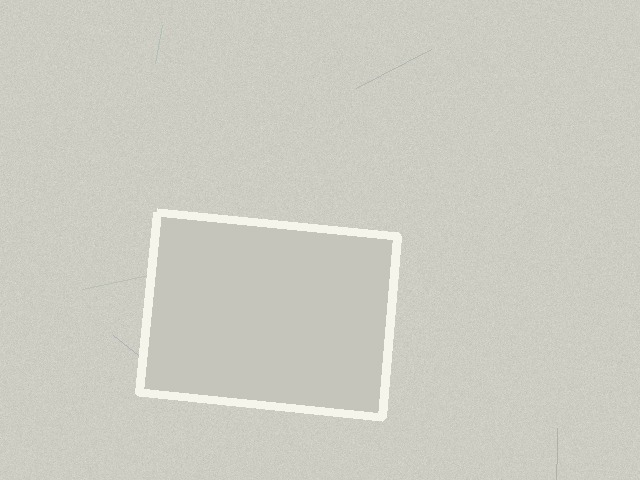parking_area: (139, 212, 397, 417)
